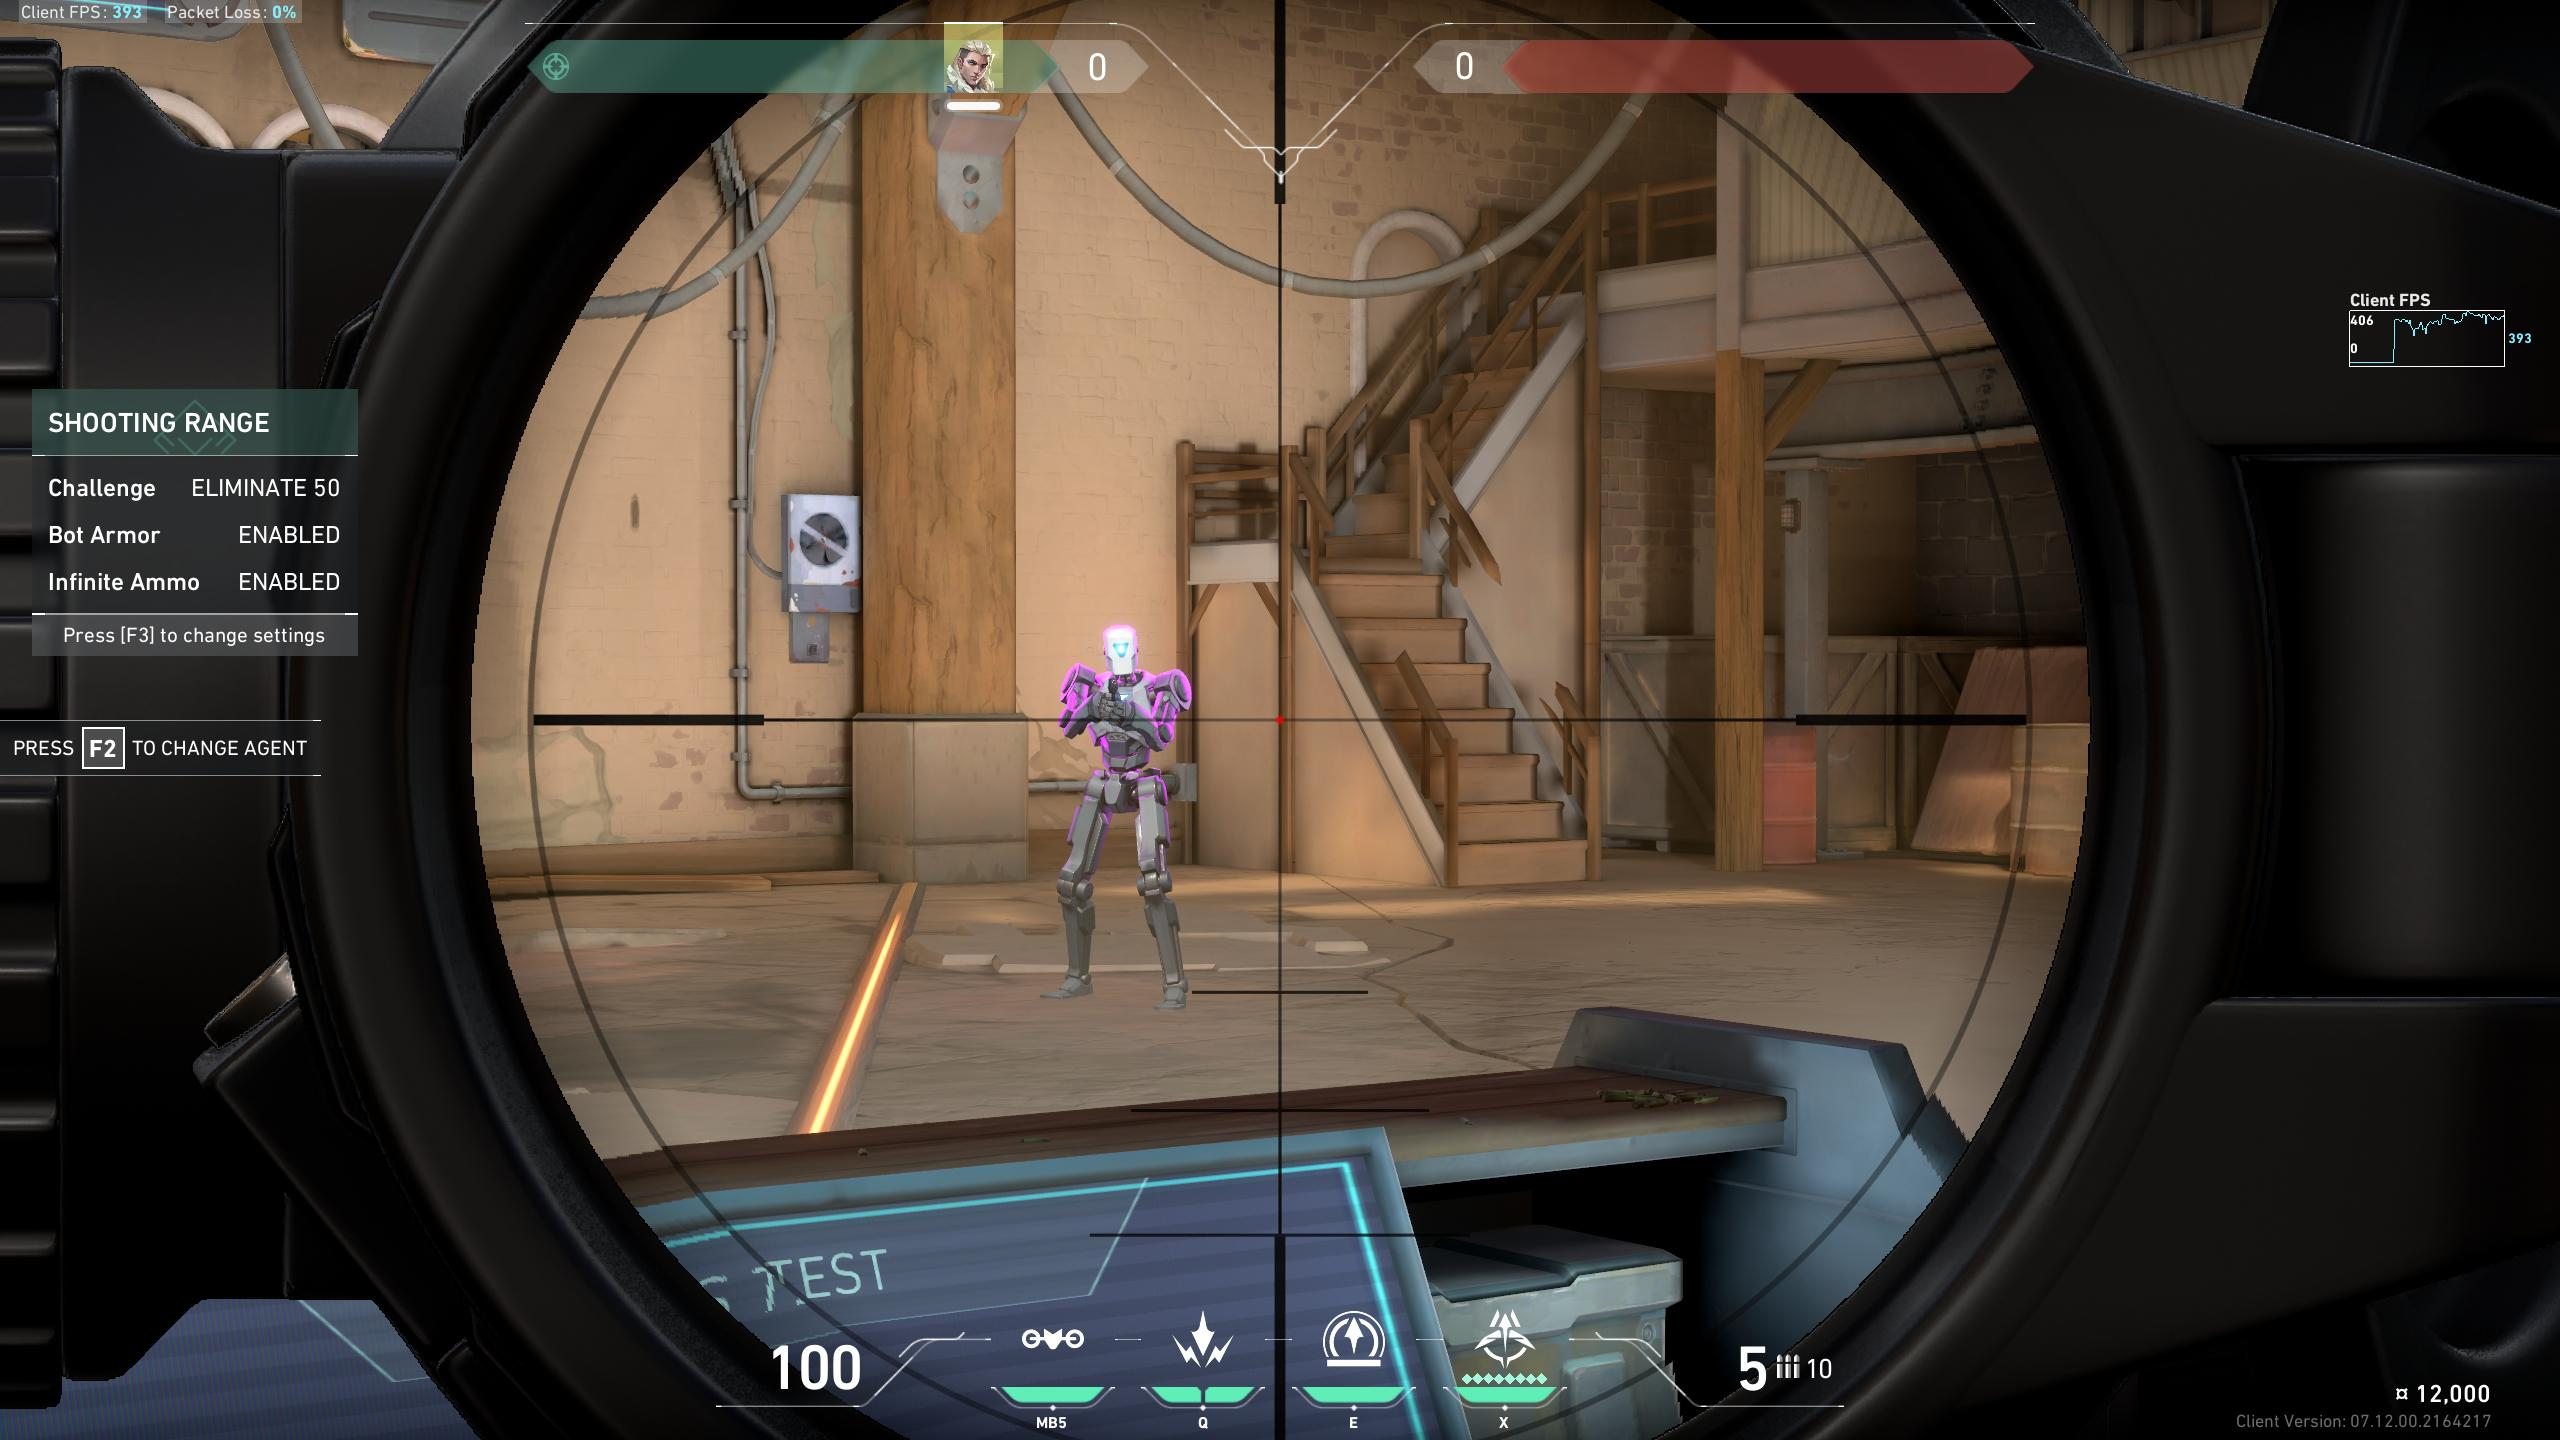enemyBody: (1064, 670, 1182, 767)
enemyHead: (1108, 631, 1139, 680)
